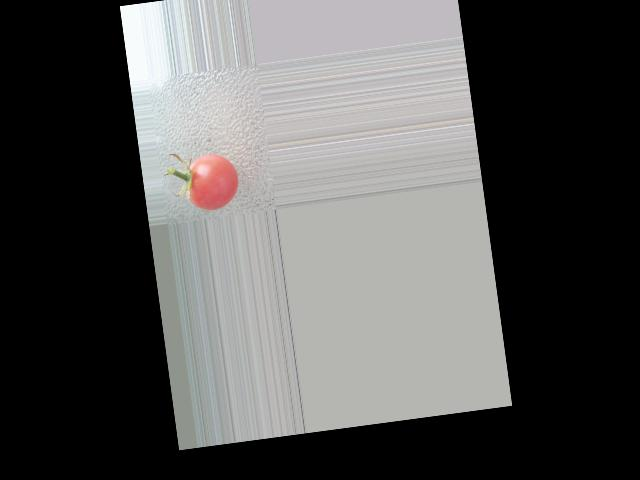tomato: (184, 149, 242, 212)
